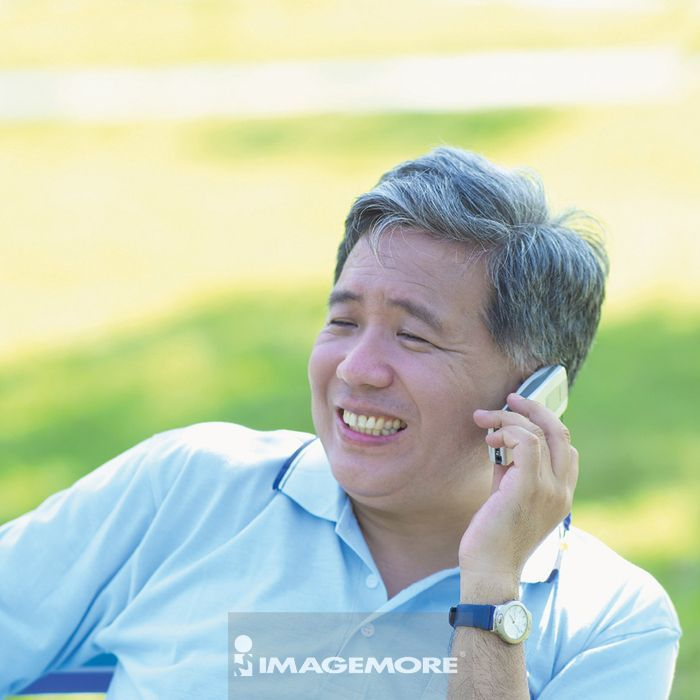talk: (311, 282, 576, 610)
